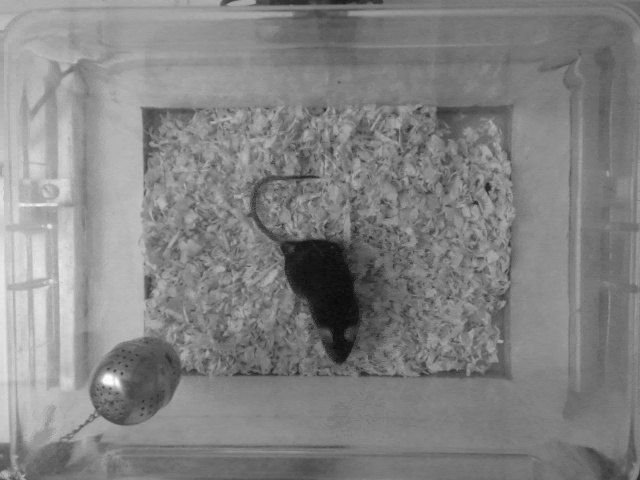mice: (249, 172, 358, 367)
